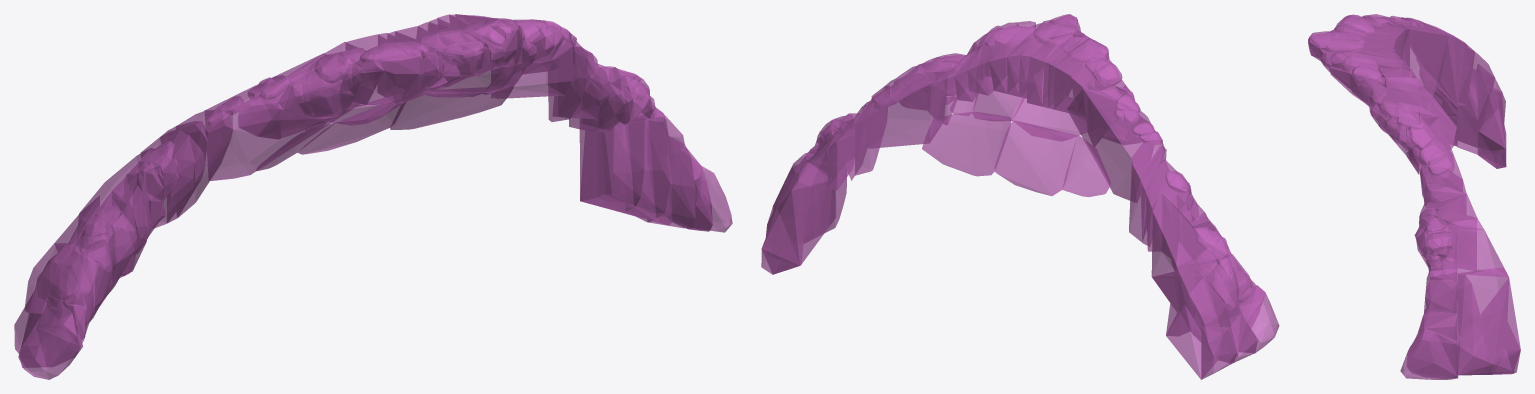
The model's file is env_excavationsite_mountain01_col.fbx.
The picture shows the model from 3 angles, left to right: view 1: azimuth 30°, elevation 25°; view 2: azimuth 150°, elevation 25°; view 3: azimuth 270°, elevation 25°; orthographic projection. The views are drawn at different scales.
Visible parts, largest first — view 1: mountain01_col_33, mountain01_col_5, mountain01_col_6, mountain01_col_90, mountain01_col_149, mountain01_col_152, mountain01_col_27, mountain01_col_34, mountain01_col_28, mountain01_col_29, mountain01_col_148, mountain01_col_16 (+59 smaller); view 2: mountain01_col_33, mountain01_col_15, mountain01_col_112, mountain01_col_148, mountain01_col_149, mountain01_col_3, mountain01_col_113, mountain01_col_122, mountain01_col_145, mountain01_col_28, mountain01_col_137, mountain01_col_27 (+49 smaller); view 3: mountain01_col_3, mountain01_col_152, mountain01_col_8, mountain01_col_33, mountain01_col_28, mountain01_col_112, mountain01_col_122, mountain01_col_15, mountain01_col_137, mountain01_col_144, mountain01_col_9, mountain01_col_121 (+68 smaller).
Part boxes in pixels (<box>): mountain01_col_33: <box>204,54,359,180</box>; mountain01_col_5: <box>597,116,644,211</box>; mountain01_col_6: <box>625,110,670,222</box>; mountain01_col_90: <box>648,136,695,228</box>; mountain01_col_149: <box>390,86,514,129</box>; mountain01_col_152: <box>605,119,671,224</box>; mountain01_col_27: <box>346,34,419,104</box>; mountain01_col_34: <box>18,313,83,379</box>; mountain01_col_28: <box>176,110,232,217</box>; mountain01_col_29: <box>140,129,194,227</box>; mountain01_col_148: <box>297,102,406,154</box>; mountain01_col_16: <box>548,37,588,121</box>; mountain01_col_33: <box>1067,88,1154,202</box>; mountain01_col_15: <box>866,72,947,148</box>; mountain01_col_112: <box>1151,192,1216,333</box>; mountain01_col_148: <box>995,120,1077,195</box>; mountain01_col_149: <box>922,112,1011,176</box>; mountain01_col_3: <box>766,166,835,265</box>; mountain01_col_113: <box>1152,261,1241,356</box>; mountain01_col_122: <box>761,191,803,274</box>; mountain01_col_145: <box>1013,95,1087,141</box>; mountain01_col_28: <box>1129,130,1164,242</box>; mountain01_col_137: <box>1166,242,1203,336</box>; mountain01_col_27: <box>1053,39,1105,114</box>; mountain01_col_3: <box>1457,268,1508,375</box>; mountain01_col_152: <box>1452,273,1493,375</box>; mountain01_col_8: <box>1408,314,1457,378</box>; mountain01_col_33: <box>1399,19,1448,96</box>; mountain01_col_28: <box>1407,24,1461,106</box>; mountain01_col_112: <box>1457,47,1495,147</box>; mountain01_col_122: <box>1458,277,1520,374</box>; mountain01_col_15: <box>1419,106,1462,194</box>; mountain01_col_137: <box>1476,64,1505,150</box>; mountain01_col_144: <box>1453,225,1508,277</box>; mountain01_col_9: <box>1400,329,1457,379</box>; mountain01_col_121: <box>1485,311,1520,374</box>.
Bounding box in the file's own units: 2502 × 1149 × 907.
